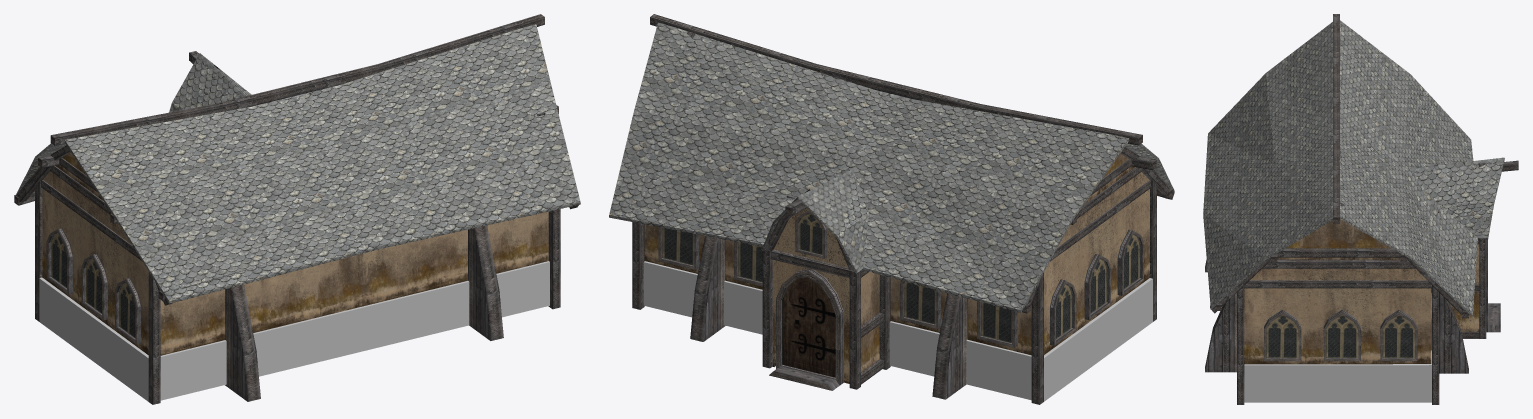
The model's file is v3_house8.dae.
3 renders of one model, left to right at view 1: azimuth 30°, elevation 25°; view 2: azimuth 150°, elevation 25°; view 3: azimuth 270°, elevation 25°, orthographic. The views are drawn at different scales.
Visible parts, largest first — view 1: roof_02, con_dirt_01, WoodPlanks_ornaments, bricks_old06, windows_c; view 2: roof_02, WoodPlanks_ornaments, con_dirt_01, bricks_old06, windows_c, door_004; view 3: roof_02, WoodPlanks_ornaments, con_dirt_01, bricks_old06, windows_c.
Boxes of the visible parts, box(x1,y1,x2,y2) form: roof_02: box(16, 24, 580, 303); con_dirt_01: box(42, 153, 548, 355); WoodPlanks_ornaments: box(14, 14, 579, 404); bricks_old06: box(39, 261, 549, 401); windows_c: box(51, 233, 135, 337); roof_02: box(609, 22, 1174, 312); WoodPlanks_ornaments: box(622, 14, 1174, 404); con_dirt_01: box(644, 154, 1149, 383); bricks_old06: box(643, 261, 1152, 401); windows_c: box(662, 213, 1139, 342); door_004: box(782, 277, 835, 377); roof_02: box(1203, 20, 1504, 316); WoodPlanks_ornaments: box(1205, 14, 1518, 404); con_dirt_01: box(1244, 219, 1479, 364); bricks_old06: box(1244, 350, 1431, 402); windows_c: box(1266, 315, 1414, 357).
Bounding box in the file's own units: 10.32 × 4.83 × 6.73.
